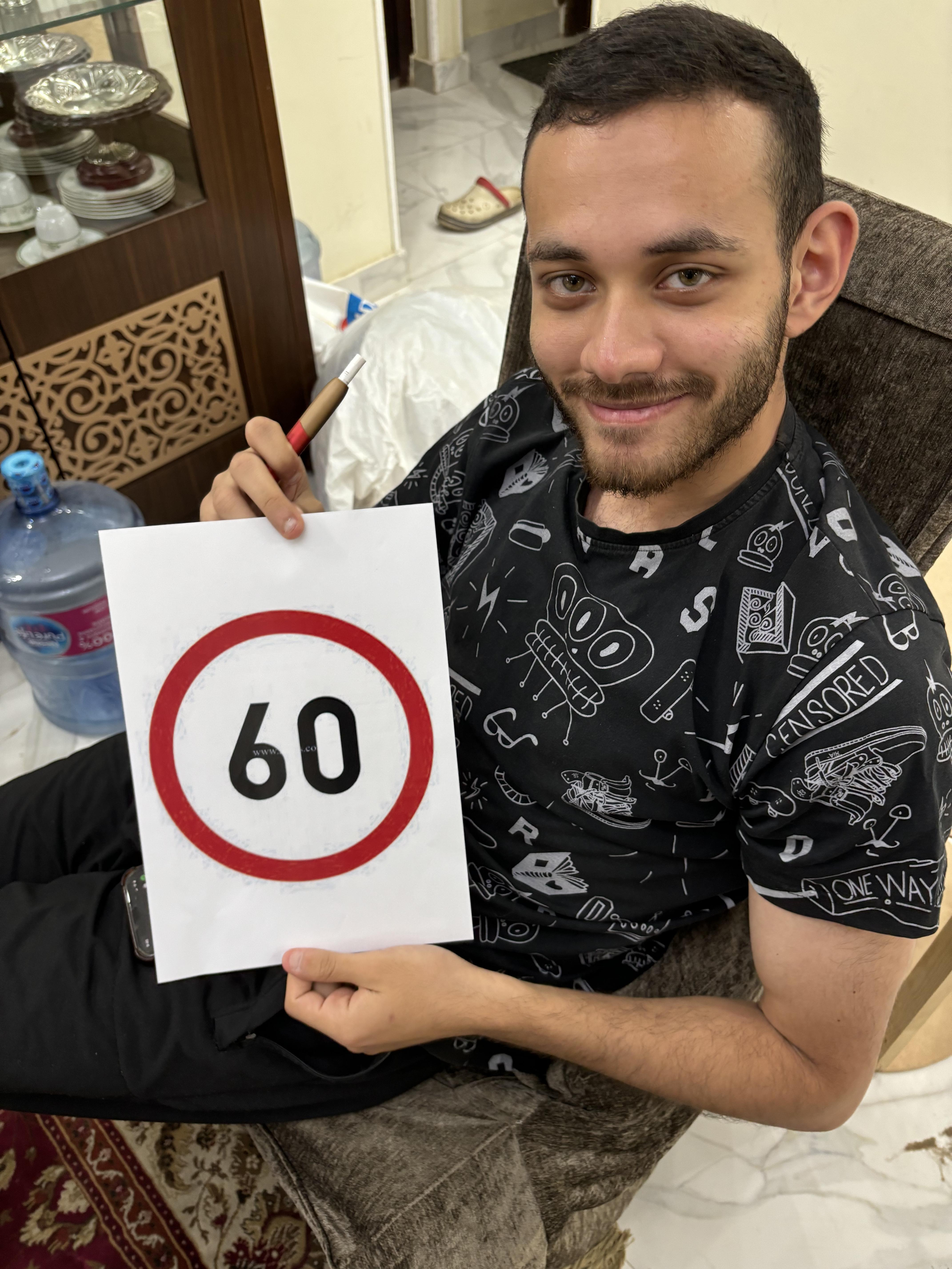60-Speed: (149, 605, 443, 892)
